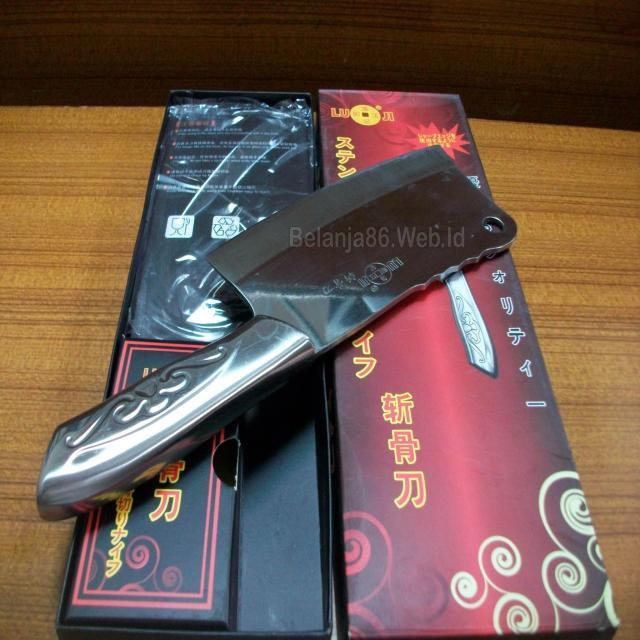Pisau: (27, 125, 530, 530)
